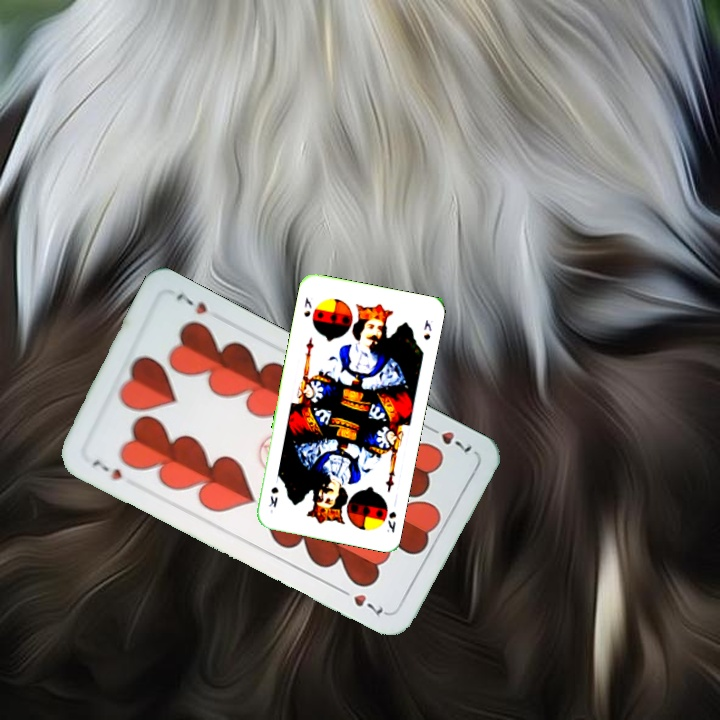H7: (422, 421, 475, 457), (88, 454, 125, 483)
SK: (383, 507, 399, 535), (300, 293, 314, 320)
